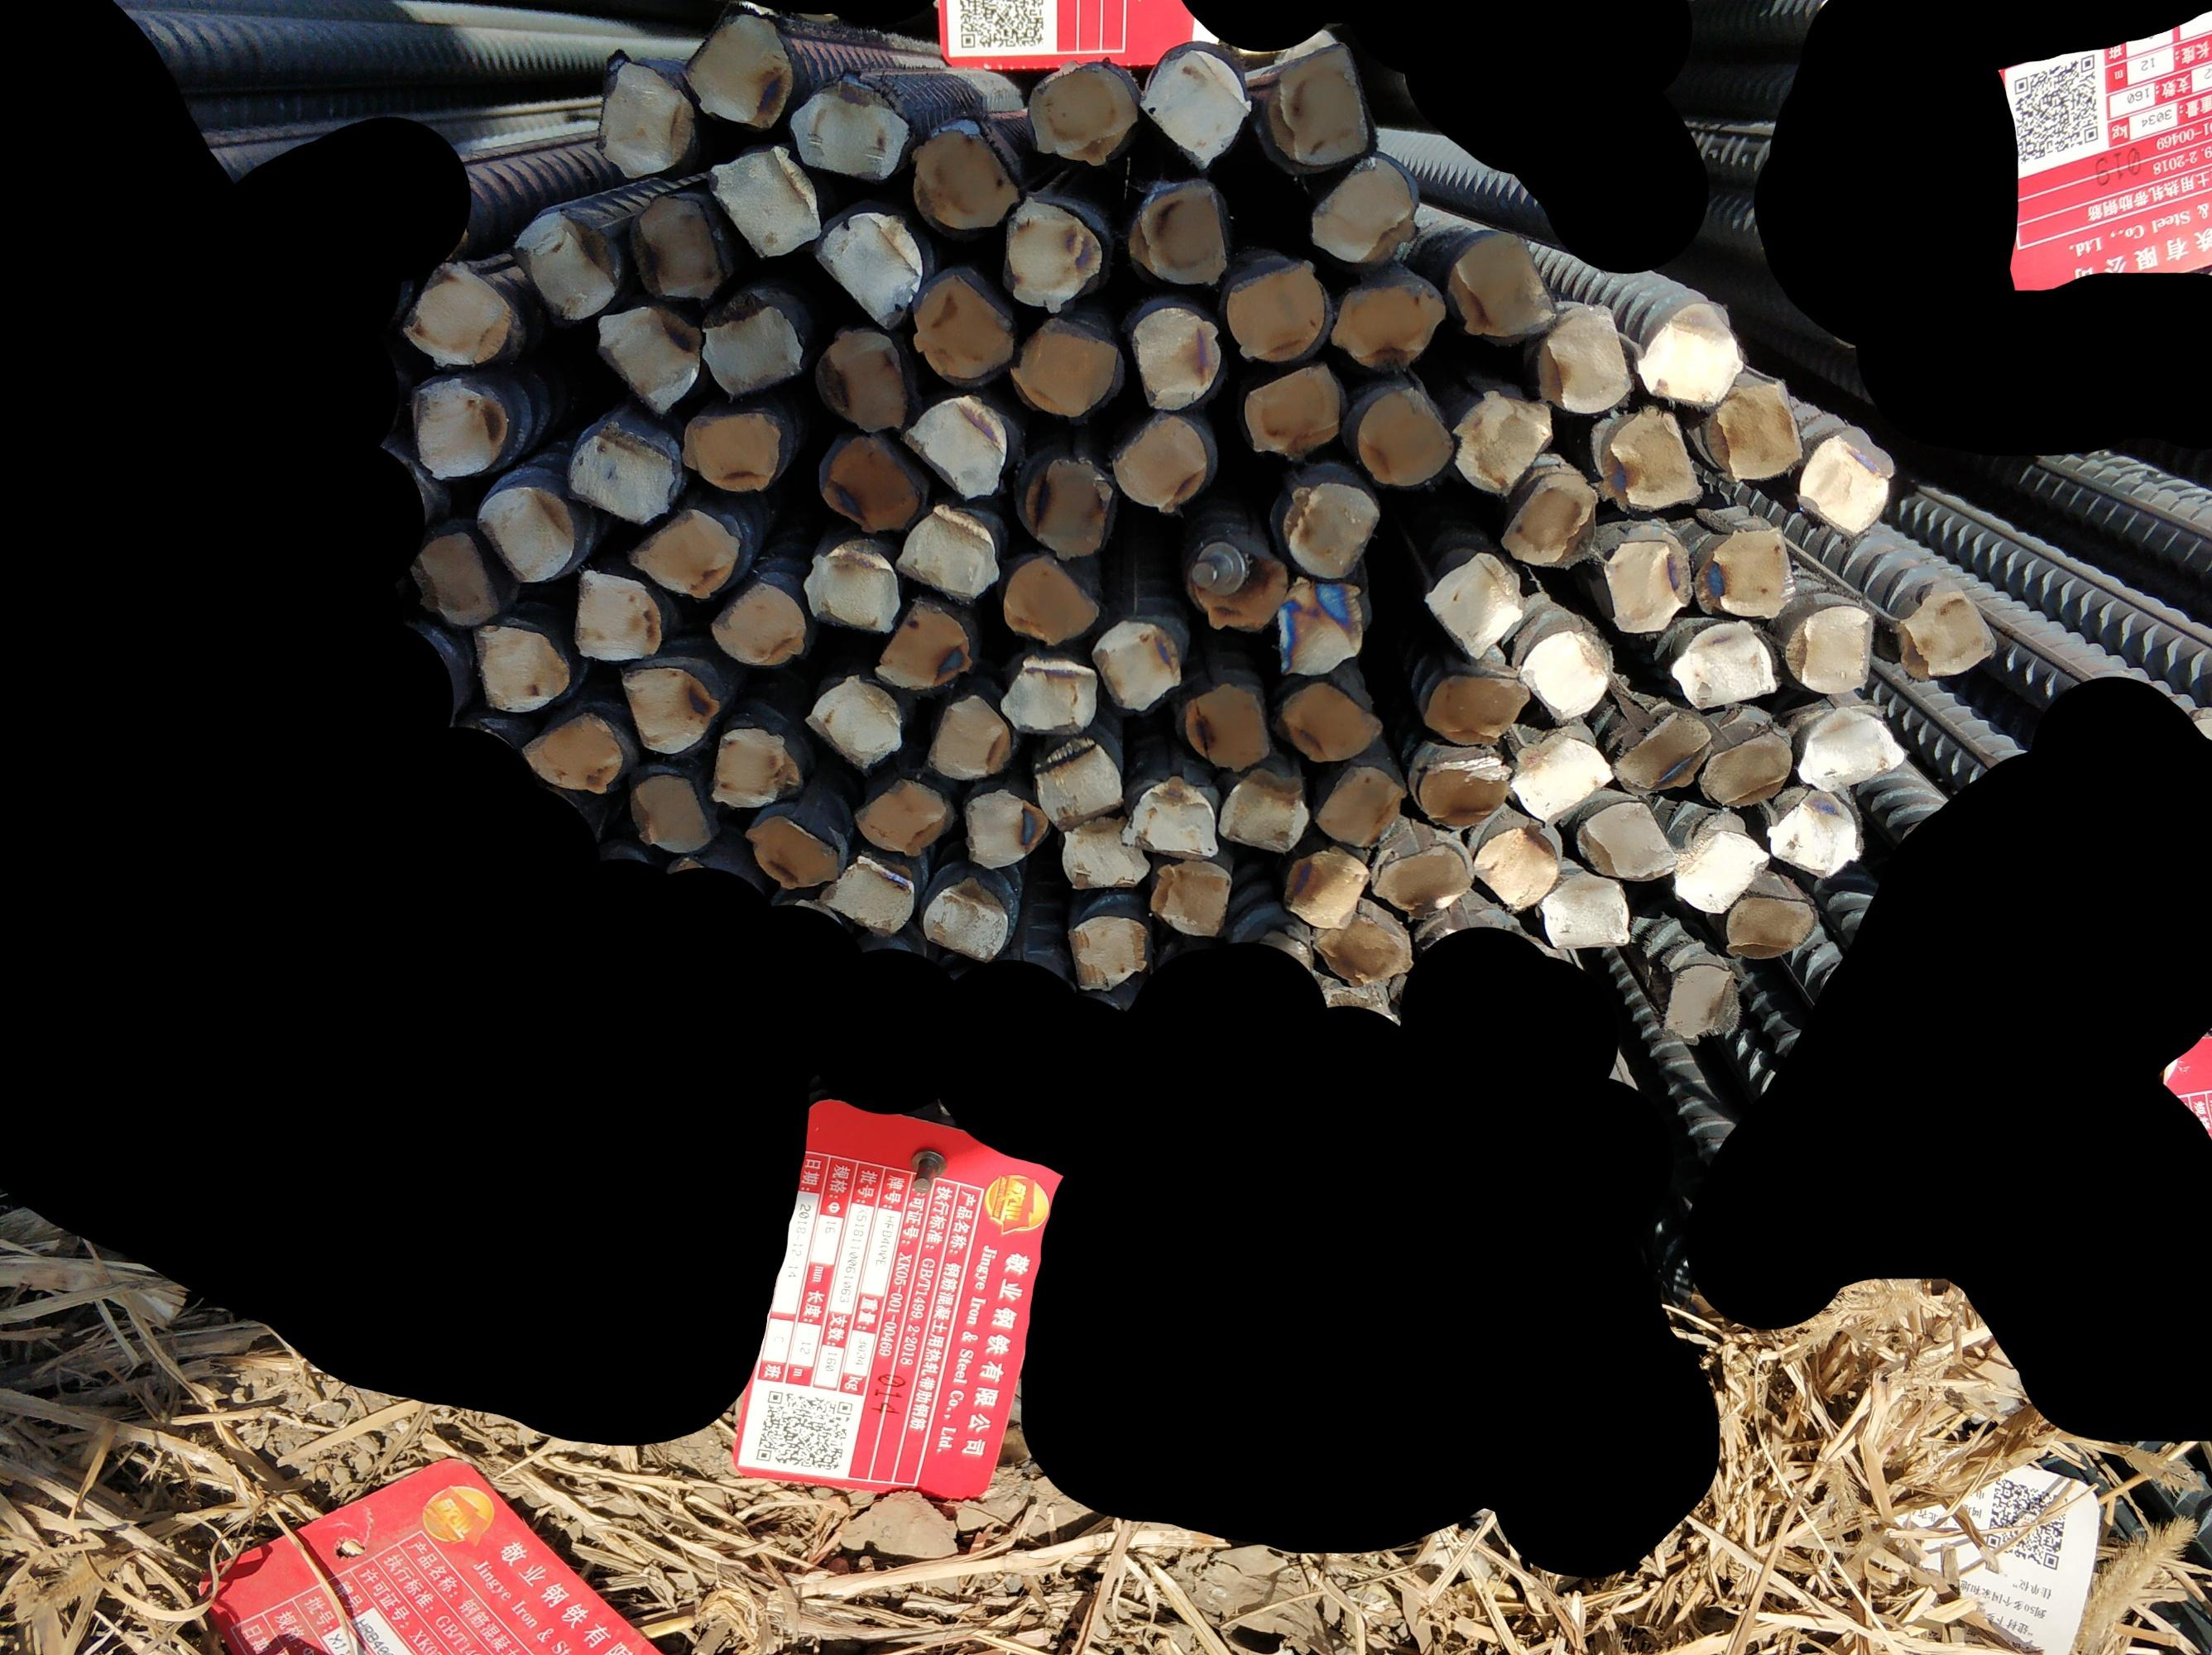bar: (672, 2, 801, 134), (801, 207, 926, 334), (1133, 45, 1255, 169), (784, 71, 912, 186), (586, 52, 697, 183), (994, 189, 1109, 313), (1267, 40, 1371, 170), (702, 148, 822, 261), (393, 264, 514, 372), (912, 118, 1023, 235), (1418, 548, 1529, 664), (1527, 299, 1637, 417), (556, 421, 676, 528), (902, 382, 1010, 502), (1027, 59, 1140, 172), (1439, 228, 1553, 339), (1635, 296, 1746, 410), (586, 309, 705, 415), (1105, 400, 1213, 516), (1793, 417, 1897, 537), (909, 271, 1018, 384), (1453, 382, 1557, 501), (511, 209, 622, 318), (1270, 476, 1385, 582), (811, 322, 916, 438), (1307, 153, 1416, 263), (1126, 172, 1232, 285), (1350, 376, 1456, 489), (626, 506, 749, 602), (1010, 311, 1121, 417), (1328, 278, 1447, 376), (815, 433, 928, 535), (890, 497, 997, 602), (1606, 403, 1706, 515), (1121, 302, 1220, 415), (1706, 374, 1804, 489), (403, 376, 509, 480), (997, 544, 1102, 650), (629, 195, 726, 308), (1512, 721, 1616, 826), (474, 482, 577, 588), (1758, 777, 1866, 878), (1687, 522, 1797, 621), (1268, 680, 1388, 770), (695, 306, 806, 403), (561, 563, 664, 668), (1593, 532, 1696, 636), (1222, 263, 1328, 363), (794, 541, 902, 640), (1017, 454, 1116, 562), (1498, 466, 1597, 574), (867, 593, 977, 690), (1611, 699, 1715, 800), (1185, 535, 1291, 635), (801, 675, 909, 772), (1272, 572, 1368, 681), (1896, 574, 1997, 676), (1235, 365, 1343, 461), (1776, 598, 1877, 699), (1117, 772, 1222, 869), (1666, 622, 1783, 709), (1793, 704, 1910, 791), (1672, 819, 1771, 920), (466, 621, 573, 713), (513, 709, 626, 796), (1084, 614, 1183, 713), (1418, 668, 1533, 753), (1571, 791, 1679, 881), (1220, 760, 1315, 861), (1305, 902, 1416, 987), (916, 862, 1011, 961), (1517, 622, 1613, 721), (1032, 730, 1124, 833), (992, 648, 1100, 735), (403, 530, 500, 626), (1698, 715, 1795, 810), (619, 662, 719, 754), (1472, 815, 1562, 918), (704, 582, 808, 671), (1175, 680, 1275, 770), (679, 410, 787, 494), (817, 848, 916, 939), (1308, 758, 1407, 848), (1275, 841, 1374, 930), (1368, 840, 1474, 921), (924, 694, 1015, 789), (1533, 869, 1637, 949), (705, 727, 803, 812), (959, 779, 1050, 869), (1413, 749, 1512, 831), (1048, 814, 1150, 892), (848, 775, 949, 854), (740, 815, 841, 892), (1150, 855, 1235, 944), (1659, 954, 1743, 1045), (624, 775, 718, 855), (1720, 888, 1819, 963), (1063, 913, 1152, 996)
